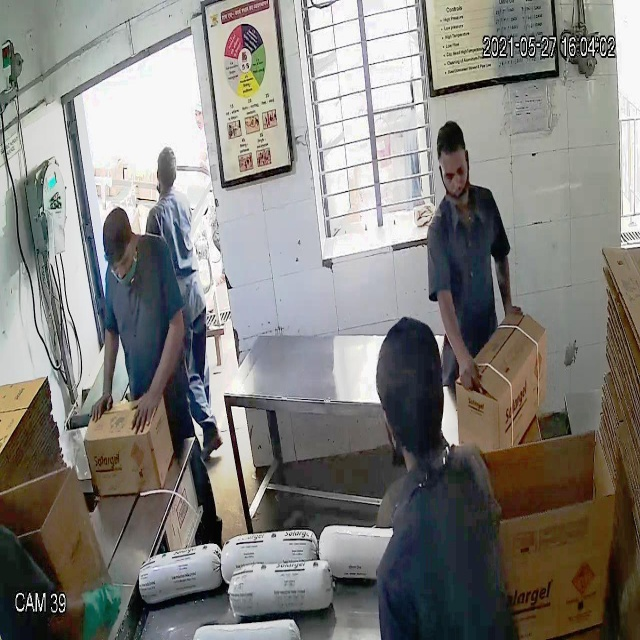Sin_gafas: (437, 157, 473, 193), (105, 244, 137, 281)
